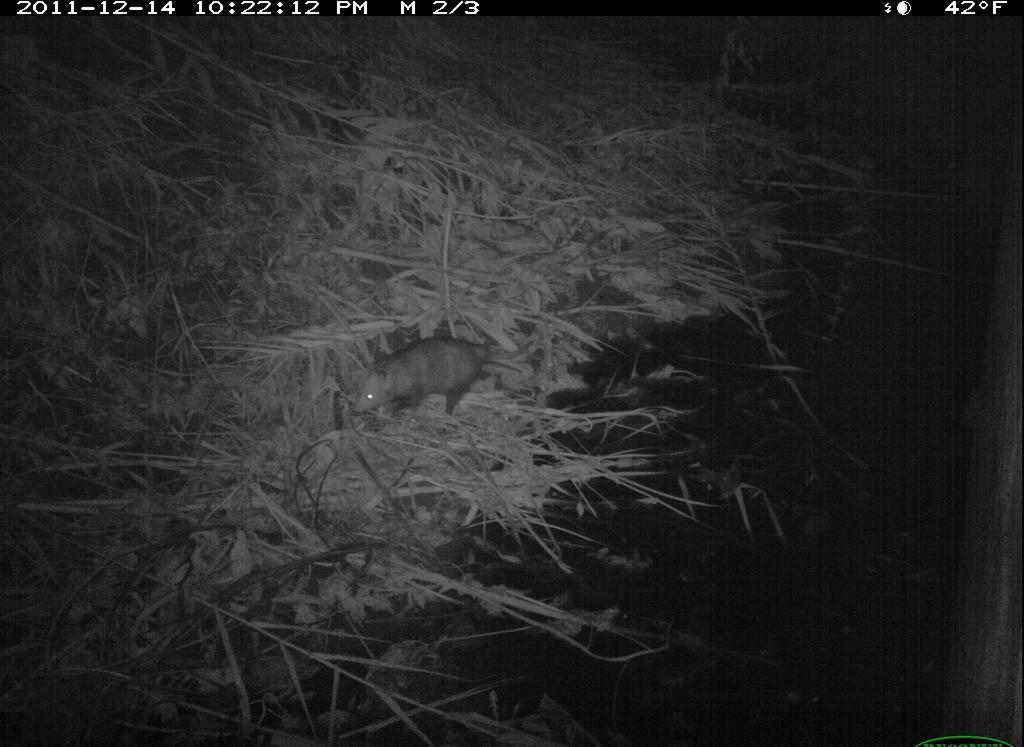opossum: (335, 312, 500, 443)
